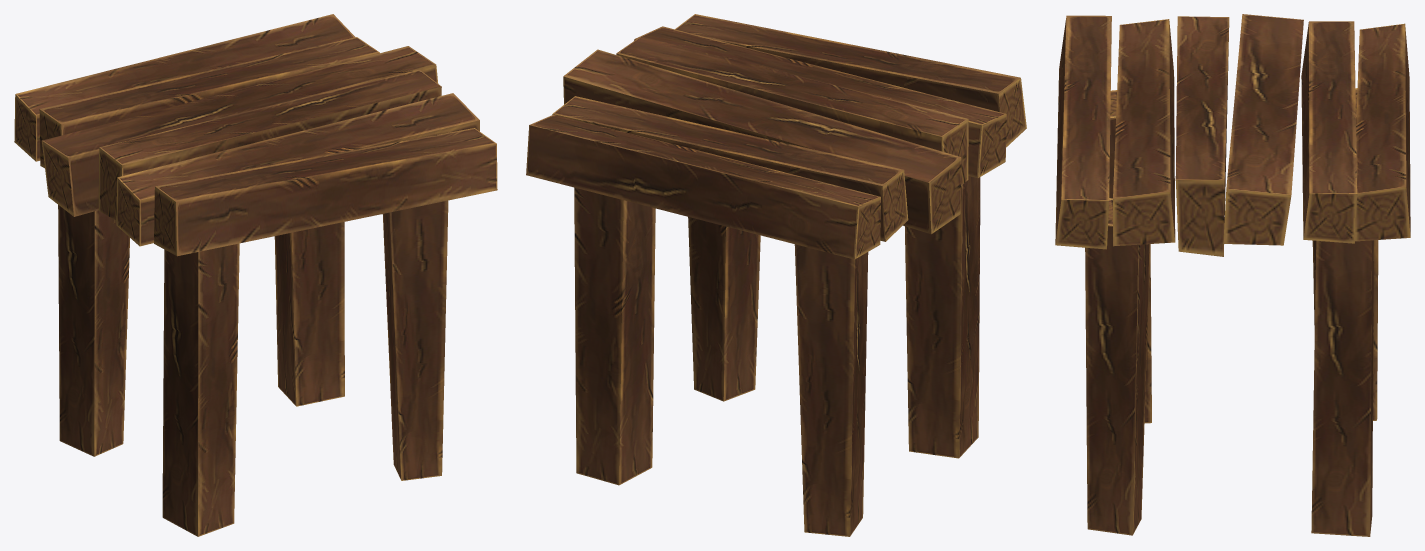
File: wooden_chair_01.fbx
The picture shows the model from 3 angles, left to right: view 1: azimuth 30°, elevation 25°; view 2: azimuth 150°, elevation 25°; view 3: azimuth 270°, elevation 25°; orthographic projection. The views are drawn at different scales.
Parts seen in each view (by area): view 1: wooden_chair_01; view 2: wooden_chair_01; view 3: wooden_chair_01.
Part boxes in pixels (x1,y1,x2,y2): wooden_chair_01: (14, 14, 497, 536); wooden_chair_01: (526, 14, 1026, 536); wooden_chair_01: (1055, 14, 1410, 536).
Size of the model in its own units: 666 by 527 by 611.
Materials: 1 (1 with a texture image).
